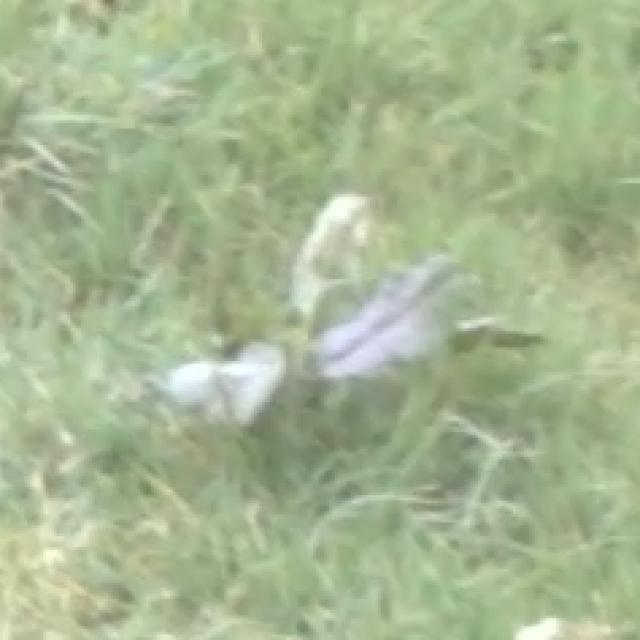organic waste: (123, 215, 553, 512)
